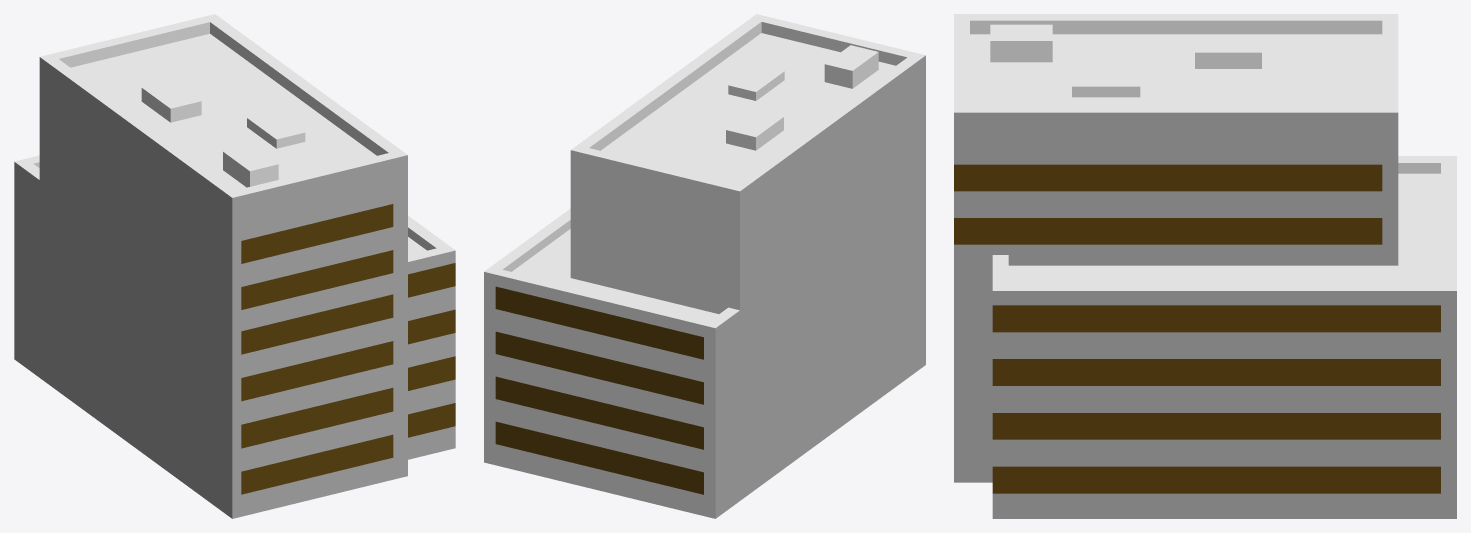
Rendered from buildings_6.dae.
3 views of the same model, side by side, from view 1: azimuth 30°, elevation 25°; view 2: azimuth 150°, elevation 25°; view 3: azimuth 270°, elevation 25° (orthographic). The views are drawn at different scales.
Visible parts, largest first — view 1: group_0 (×15); view 2: group_0 (×9); view 3: group_0 (×11).
Part boxes in pixels (bbox=[...]): group_0 (×15): bbox=[14, 14, 455, 518]; group_0 (×9): bbox=[484, 14, 925, 518]; group_0 (×11): bbox=[954, 14, 1456, 518].
Size of the model in its own units: 42.52 by 66.93 by 55.51.
